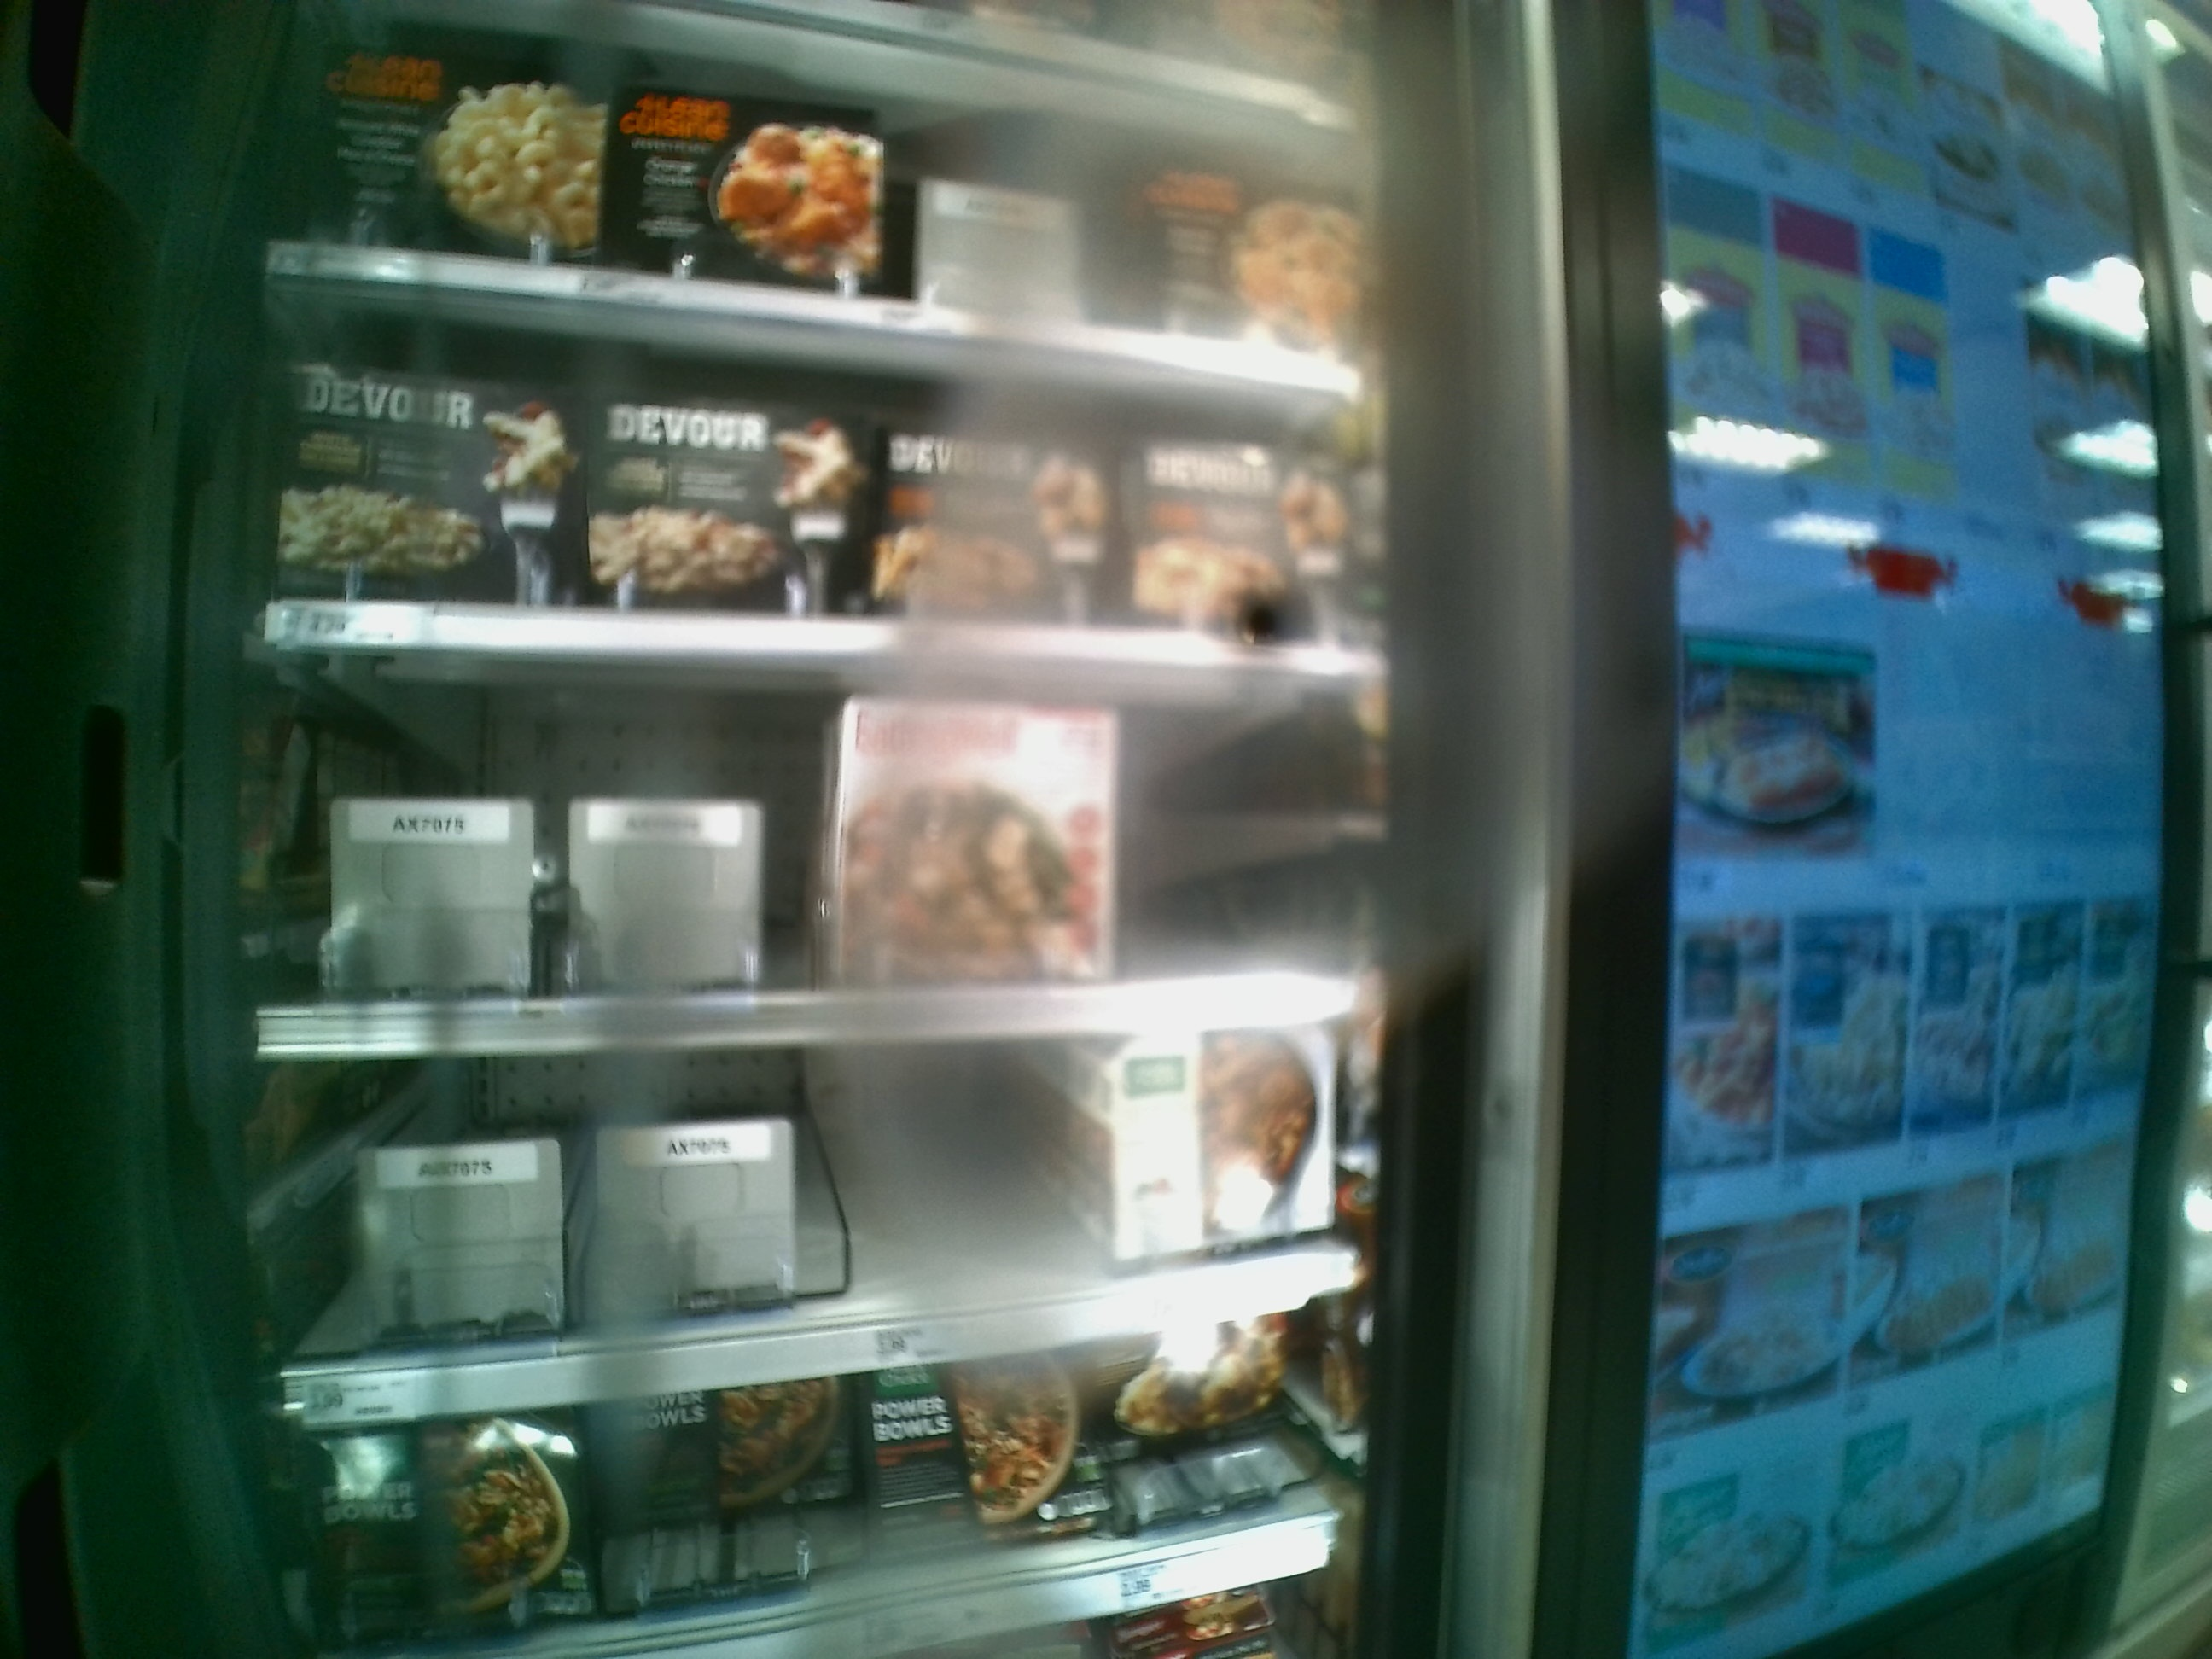Shelf: (246, 636, 1372, 1053), (261, 251, 1383, 664)
